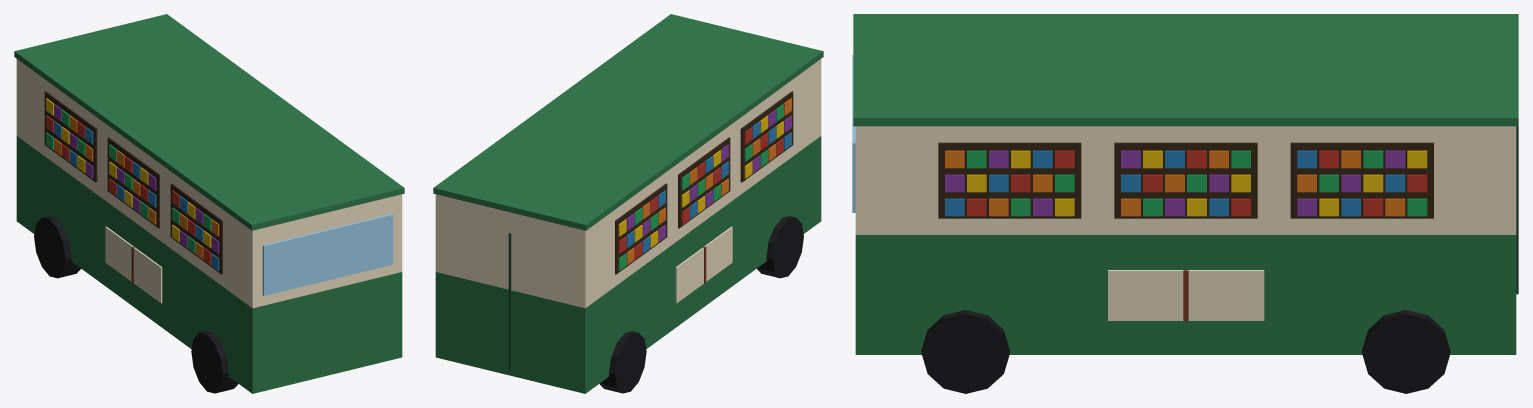
The model's file is bookmobile.glb.
3 views of the same model, side by side, from view 1: azimuth 30°, elevation 25°; view 2: azimuth 150°, elevation 25°; view 3: azimuth 270°, elevation 25° (orthographic). The views are drawn at different scales.
Visible parts, largest first — view 1: body_bus_green, body_bus_cream, glass_car_glass, wheels_tire (×2), windows_shelf_dark (×3); view 2: body_bus_green, body_bus_cream, wheels_tire (×2), windows_shelf_dark (×3), doors_door_line; view 3: body_bus_green, body_bus_cream, windows_shelf_dark (×3), wheels_tire (×2).
Part boxes in pixels (box(x1,y1,x2,y2)): body_bus_green: box(14, 14, 404, 393); body_bus_cream: box(16, 59, 402, 308); glass_car_glass: box(262, 214, 393, 295); wheels_tire (×2): box(34, 216, 238, 393); windows_shelf_dark (×3): box(44, 91, 222, 274); body_bus_green: box(433, 14, 823, 393); body_bus_cream: box(435, 59, 821, 308); wheels_tire (×2): box(599, 216, 803, 393); windows_shelf_dark (×3): box(615, 91, 793, 274); doors_door_line: box(508, 233, 511, 369); body_bus_green: box(853, 14, 1518, 354); body_bus_cream: box(855, 126, 1516, 320); windows_shelf_dark (×3): box(938, 142, 1433, 218); wheels_tire (×2): box(921, 310, 1450, 393).
Size of the model in its own units: 2.38 by 2.73 by 6.05.
